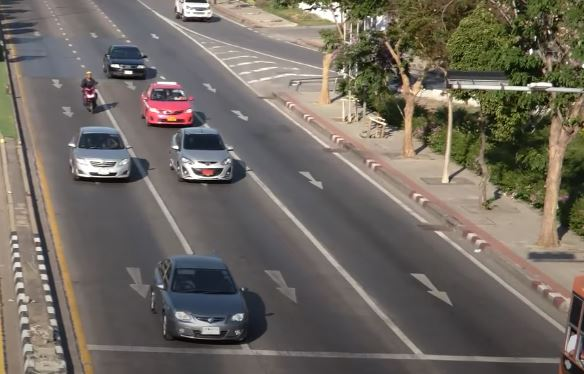Car: (149, 252, 249, 343), (168, 125, 235, 183), (68, 124, 131, 182), (140, 80, 195, 130), (103, 42, 147, 79), (173, 1, 215, 22)
Motorcycle: (79, 69, 100, 114)
